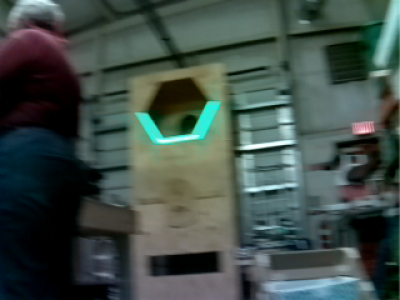target: (135, 101, 220, 144)
